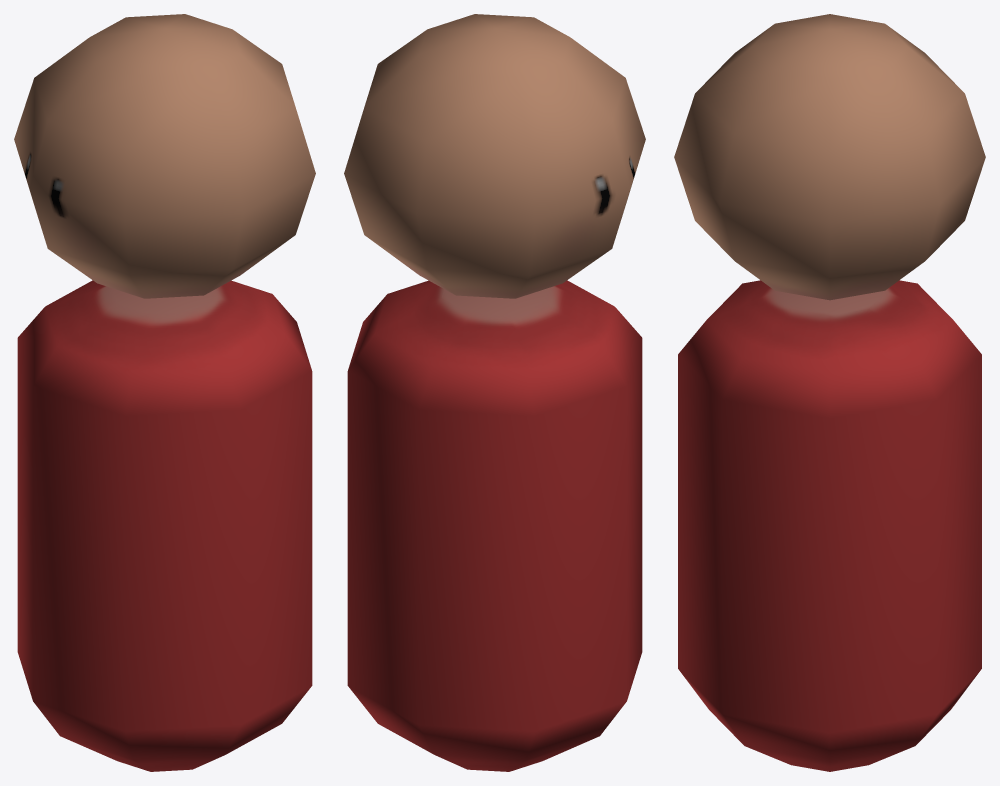
Rendered from boneco01.dae.
The picture shows the model from 3 angles, left to right: view 1: azimuth 30°, elevation 25°; view 2: azimuth 150°, elevation 25°; view 3: azimuth 270°, elevation 25°; orthographic projection.
Visible parts, largest first — view 1: pCylinder4; view 2: pCylinder4; view 3: pCylinder4.
Part boxes in pixels (x1=…): pCylinder4: x1=14, y1=14, x2=315, y2=771; pCylinder4: x1=344, y1=14, x2=645, y2=771; pCylinder4: x1=674, y1=14, x2=985, y2=771.
Size of the model in its own units: 1.6 by 4.07 by 1.6.
